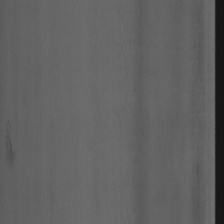water_spot: (3, 118, 21, 179)
